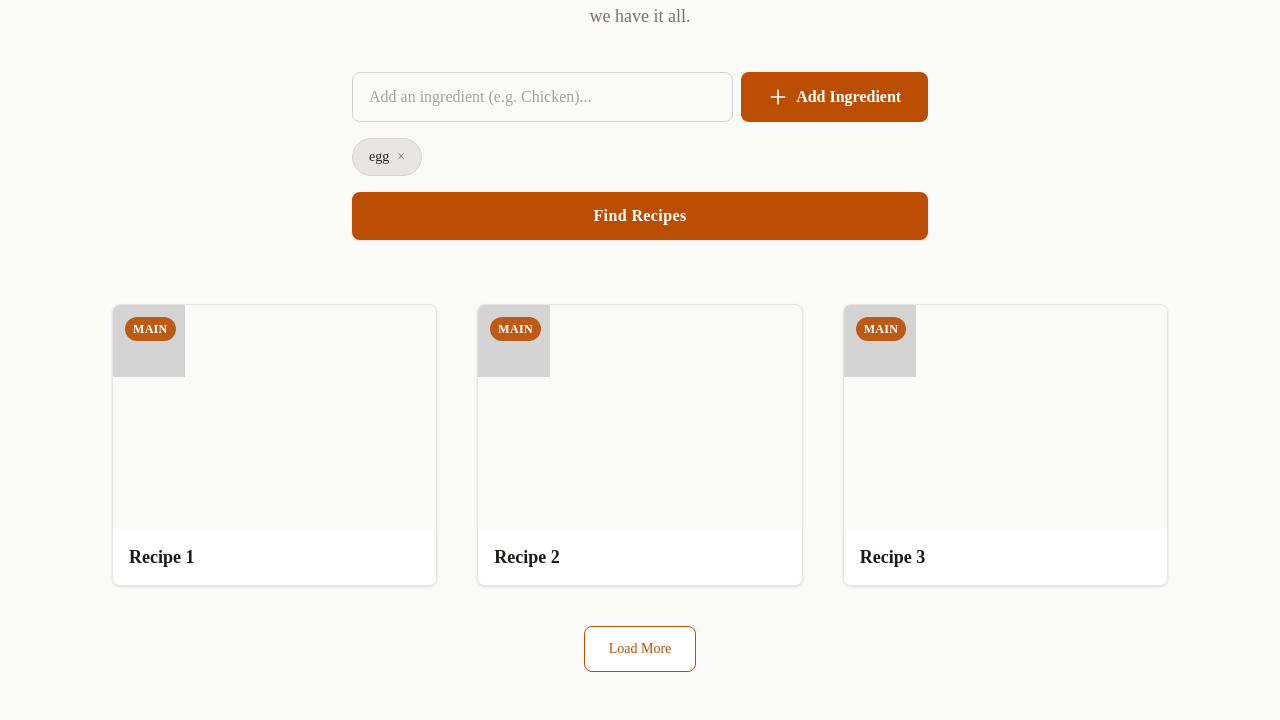
Test: Mobile recipe accumulation › shows a loading indicator on the button while the next page is in flight
This screenshot has width=1280, height=720.
(page scrolled)
What coordinates should you click on to do the following:
click the button "Load More"
I would click on:
 (640, 649)
Its box is x1=584 y1=626 x2=696 y2=672.
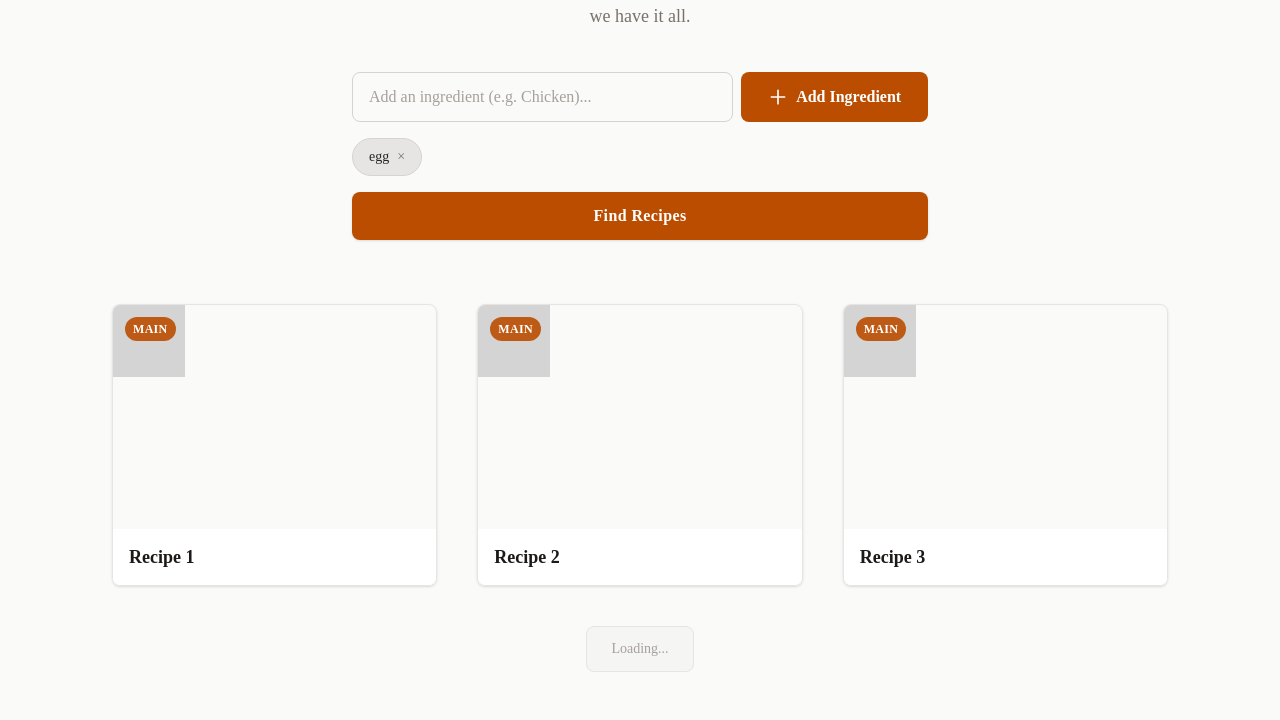
Now the button "Loading..." is disabled, box x1=586 y1=626 x2=694 y2=672
